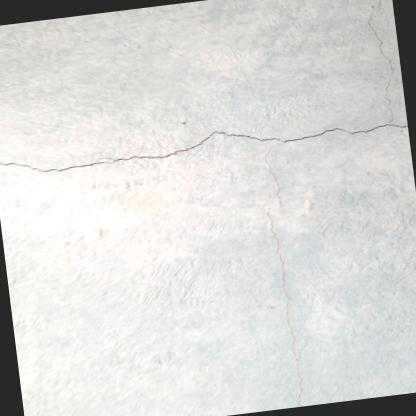crack: (0, 122, 407, 171)
